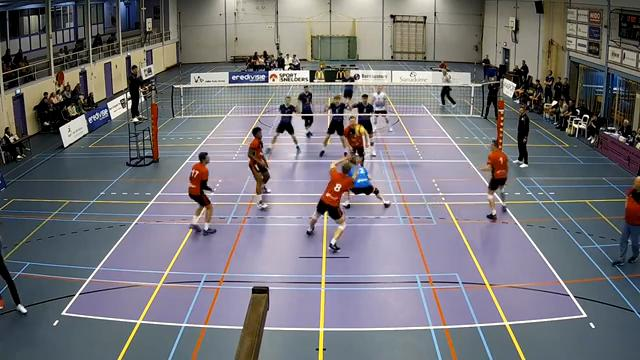Player: (188, 152, 215, 234), (481, 140, 508, 221), (266, 96, 300, 153), (343, 166, 389, 208), (248, 127, 269, 209), (319, 95, 346, 156), (353, 94, 375, 156), (344, 115, 367, 161), (372, 85, 392, 131), (298, 85, 313, 137), (343, 76, 354, 105)
Receive: (303, 150, 362, 253)
